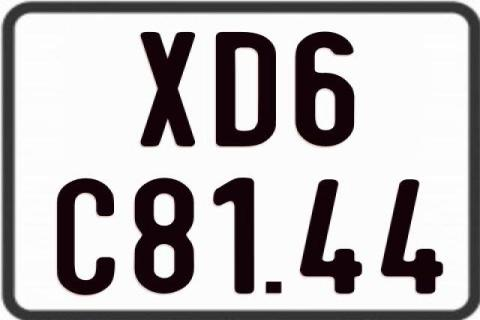0: (299, 178, 365, 296), (131, 177, 193, 297), (381, 177, 443, 295), (295, 29, 354, 149), (210, 177, 252, 297)
C: (57, 177, 121, 295)
D: (213, 31, 279, 147)
X: (140, 30, 196, 146)
